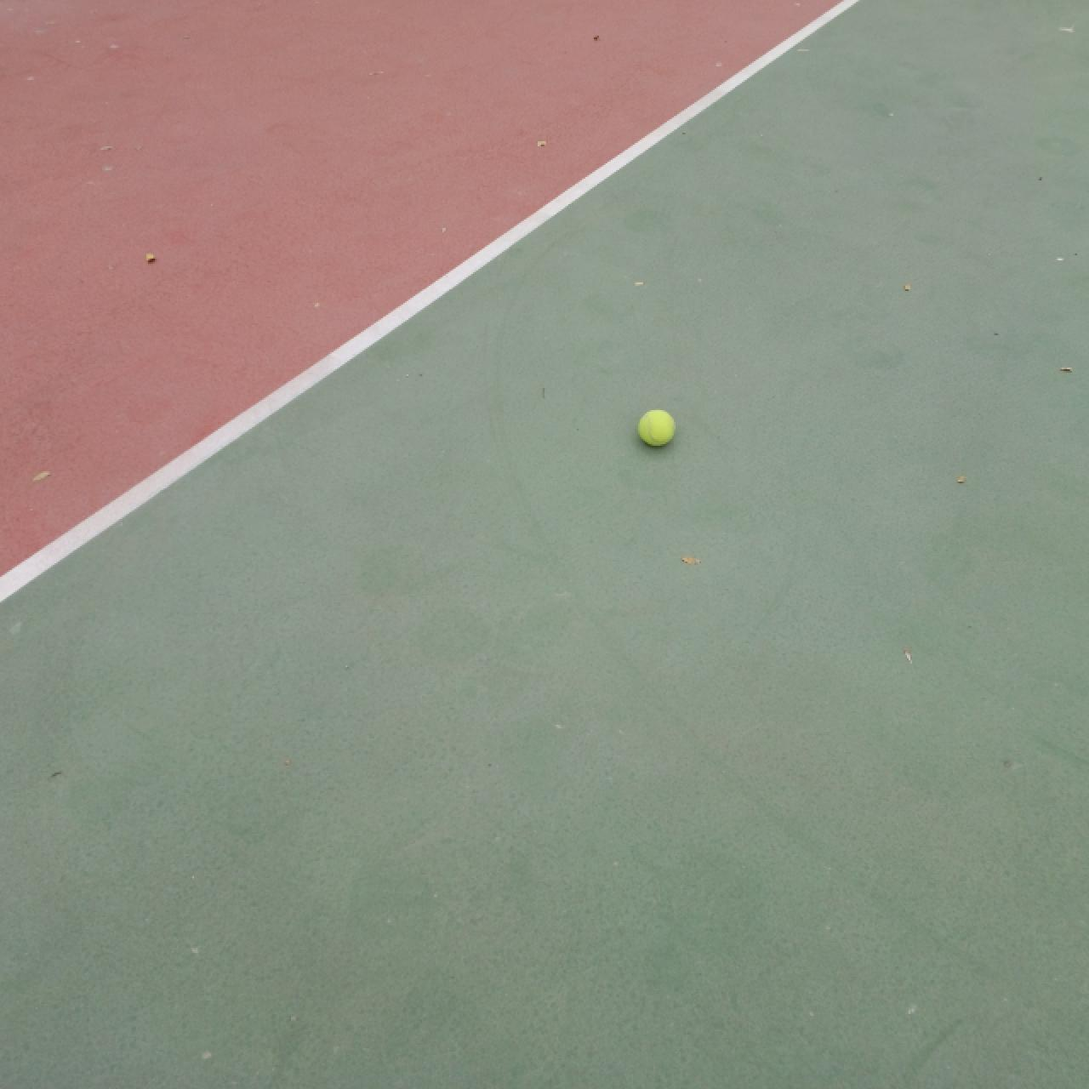tennis-ball: (639, 408, 676, 449)
